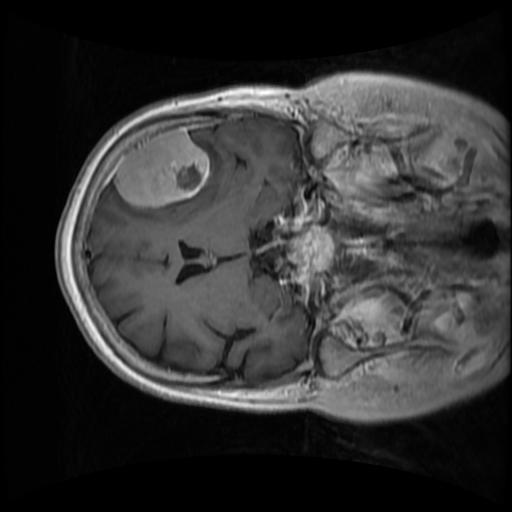meningioma: (114, 129, 210, 208)
